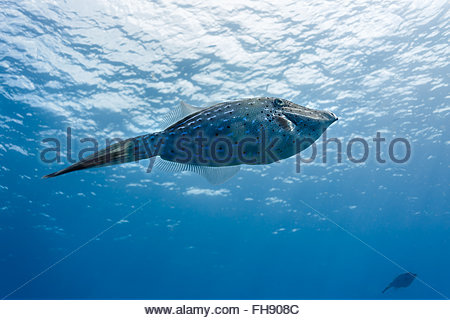Aluterus_scriptus: (40, 92, 342, 186)
